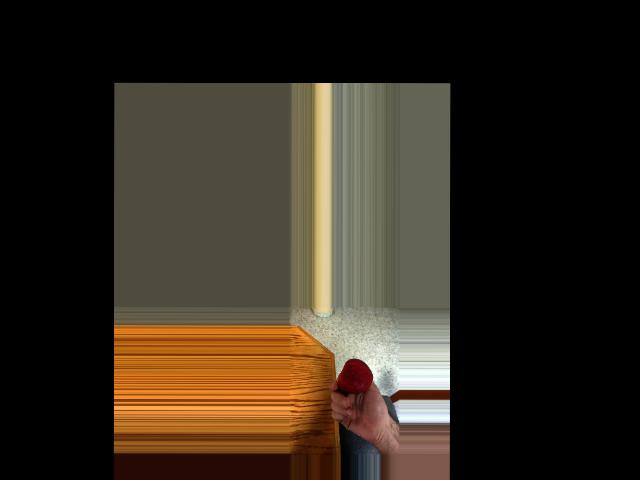apple: (337, 356, 372, 394)
